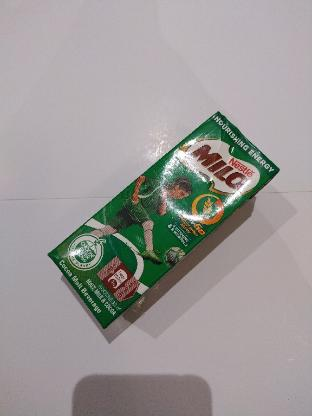Others: (48, 112, 279, 328)
